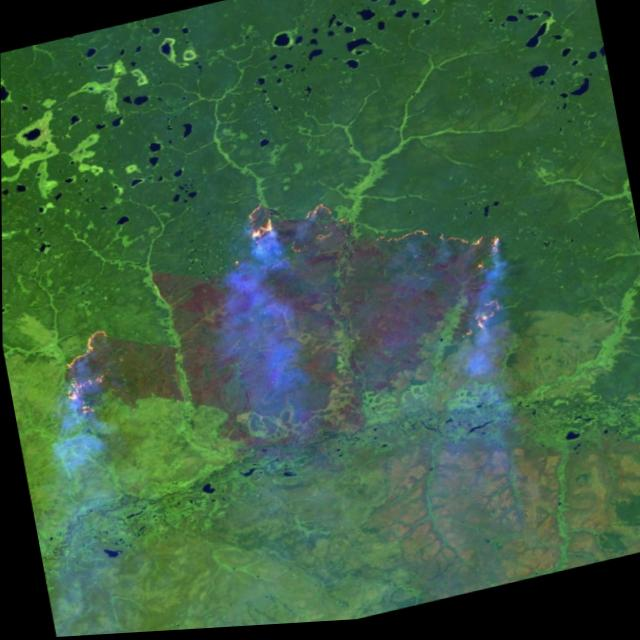fire: (214, 149, 528, 404), (40, 316, 136, 431)
